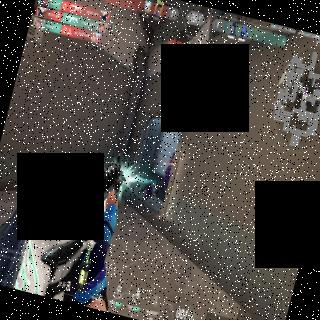ENEMY-BODY: (158, 150, 176, 196)
ENEMY-HEAD: (170, 152, 174, 160)
